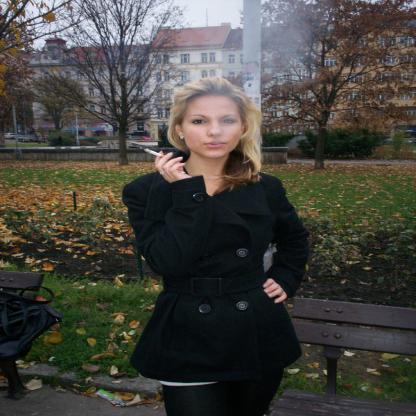smoking: (144, 148, 168, 159)
